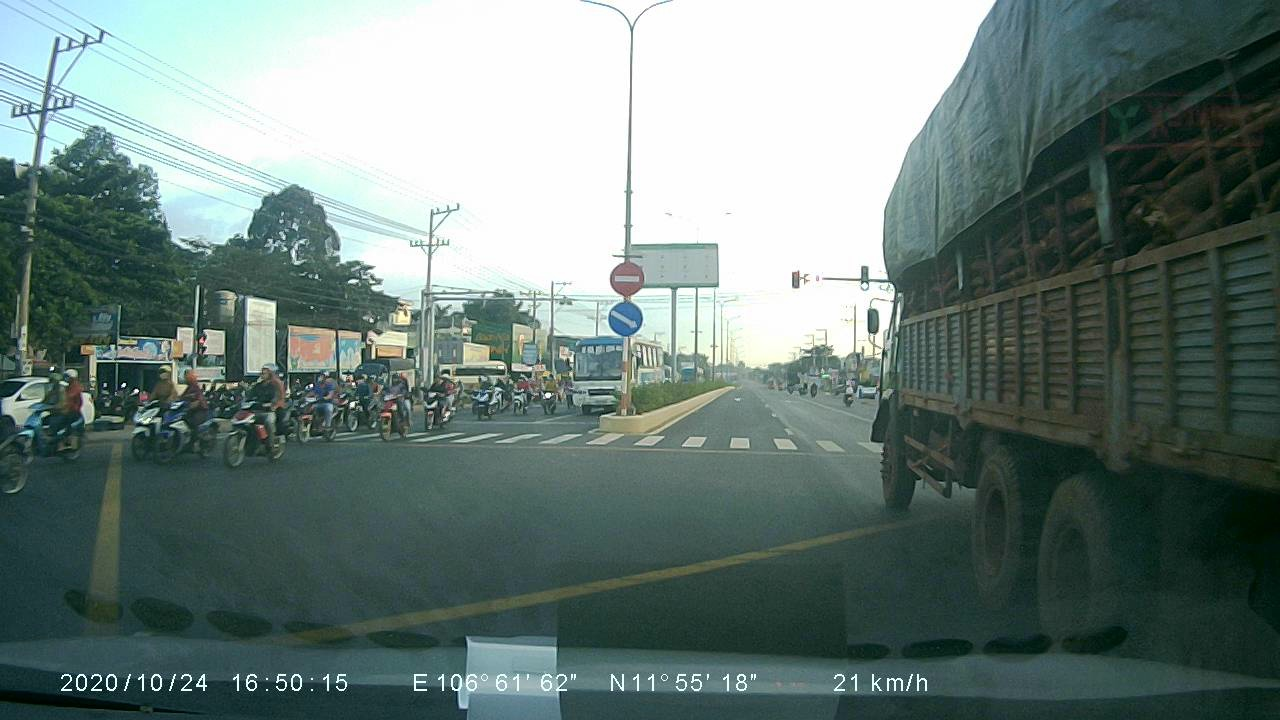Cam di nguoc chieu: (604, 258, 645, 297)
Huong di phai re phai: (607, 298, 645, 340)
